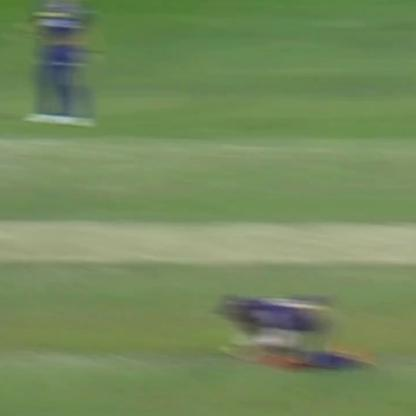ball: (213, 344, 233, 355)
pitch: (4, 212, 416, 290)
